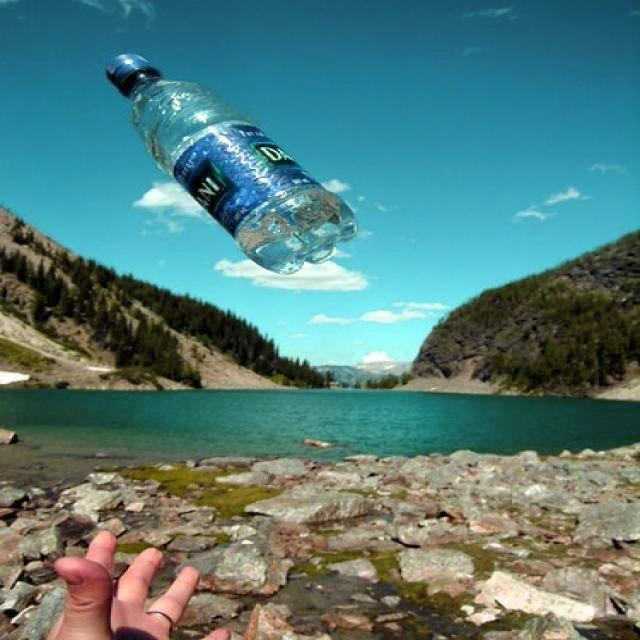bottle: (106, 53, 357, 276)
